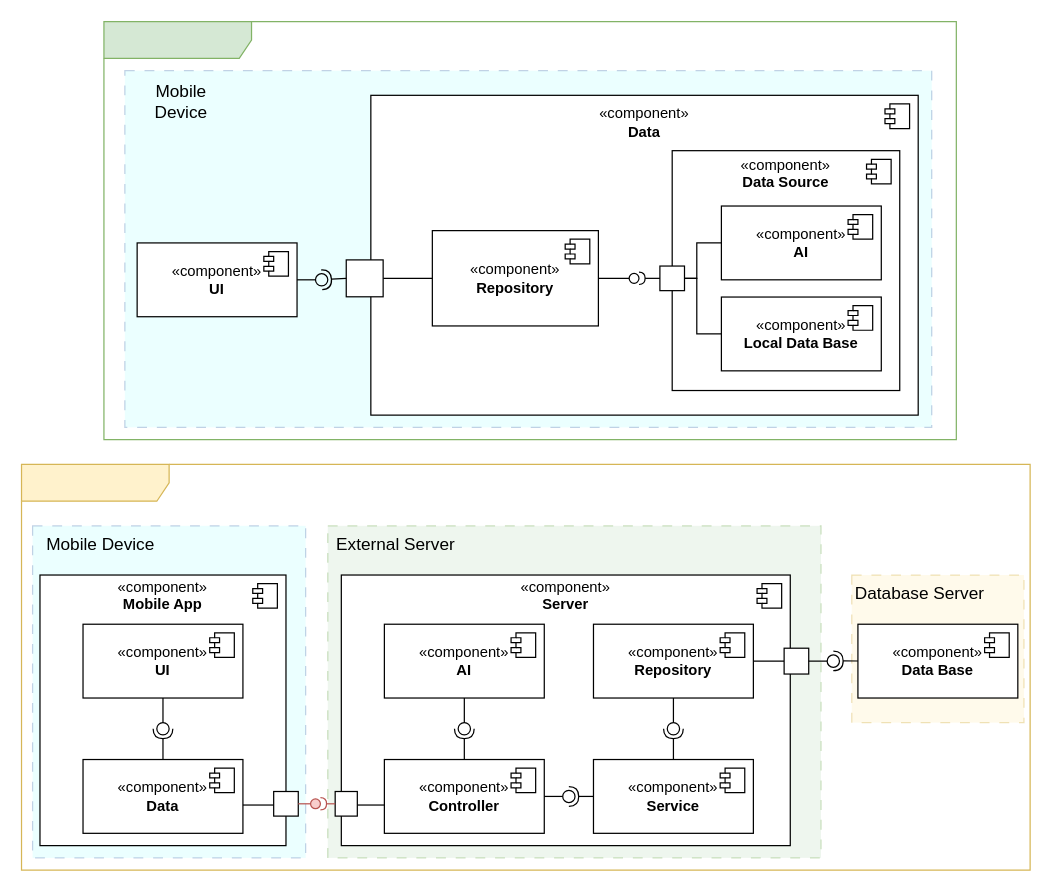
The diagram is 1052 pixels wide and 892 high, and some of its shapes have lost their labels. Each missing label, with the centre of its shape:
Client-Server App: the point at 525,666
Monolith App: the point at 529,230
